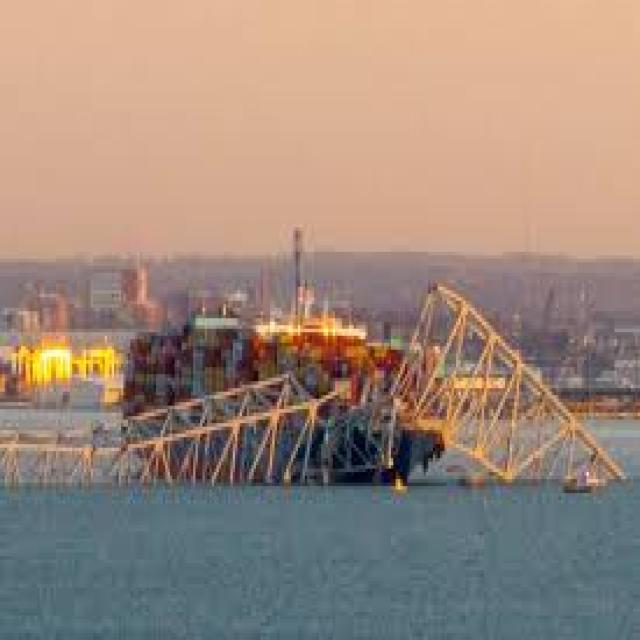bridge collapse: (60, 63, 638, 640)
